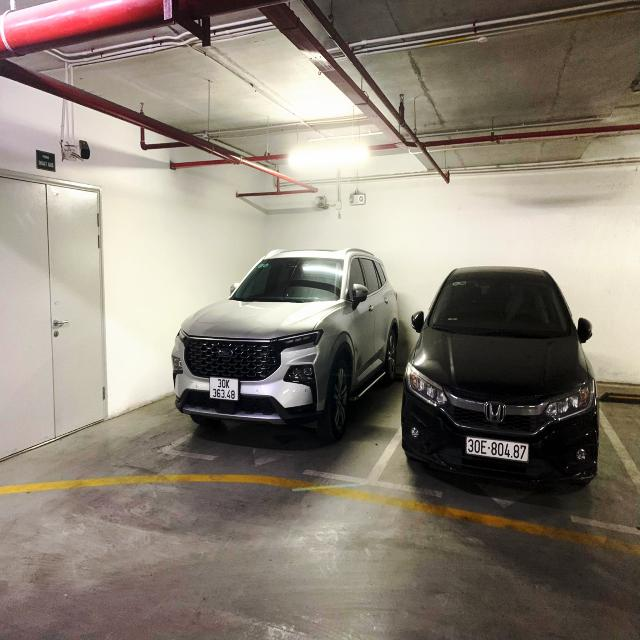license_plate: (464, 433, 534, 468), (208, 375, 241, 405)
